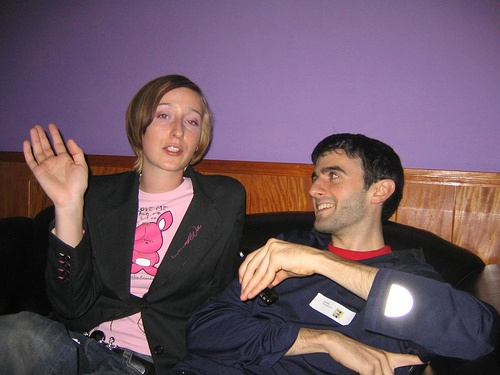head: (123, 72, 221, 178), (308, 132, 406, 237)
person: (1, 70, 249, 375), (175, 128, 481, 375)
